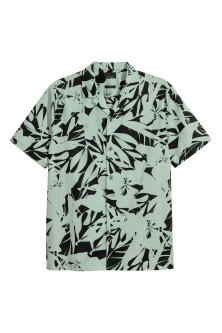teeshirt: (16, 61, 202, 275)
